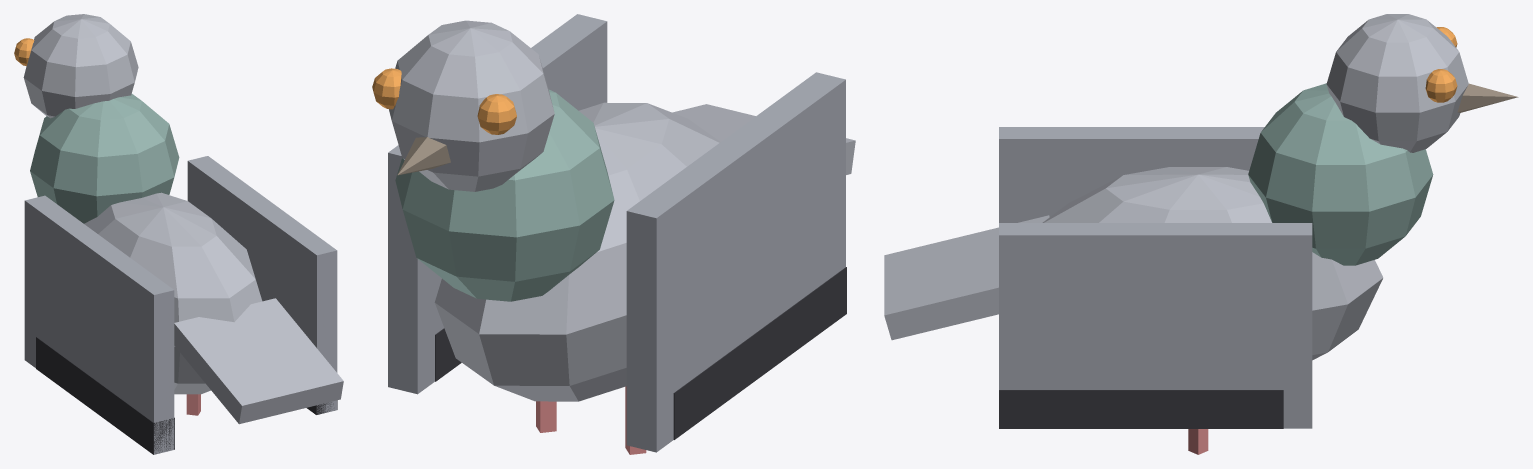
The model's file is pigeon.glb.
3 renders of one model, left to right at view 1: azimuth 30°, elevation 25°; view 2: azimuth 150°, elevation 25°; view 3: azimuth 270°, elevation 25°, orthographic. The views are drawn at different scales.
Parts seen in each view (by area): view 1: PigeonBody, WingL, WingR; view 2: PigeonBody, WingL, WingR; view 3: WingR, PigeonBody, WingL.
Boxes of the visible parts, x1,y1,x2,y2 form: PigeonBody: (14, 14, 343, 424); WingL: (24, 195, 174, 454); WingR: (187, 156, 337, 414); PigeonBody: (372, 20, 855, 454); WingL: (626, 72, 846, 452); WingR: (388, 14, 607, 394); WingR: (999, 223, 1312, 428); PigeonBody: (884, 14, 1518, 454); WingL: (999, 127, 1264, 222).
Bounding box in the file's own units: 0.181 × 0.32 × 0.4455.
